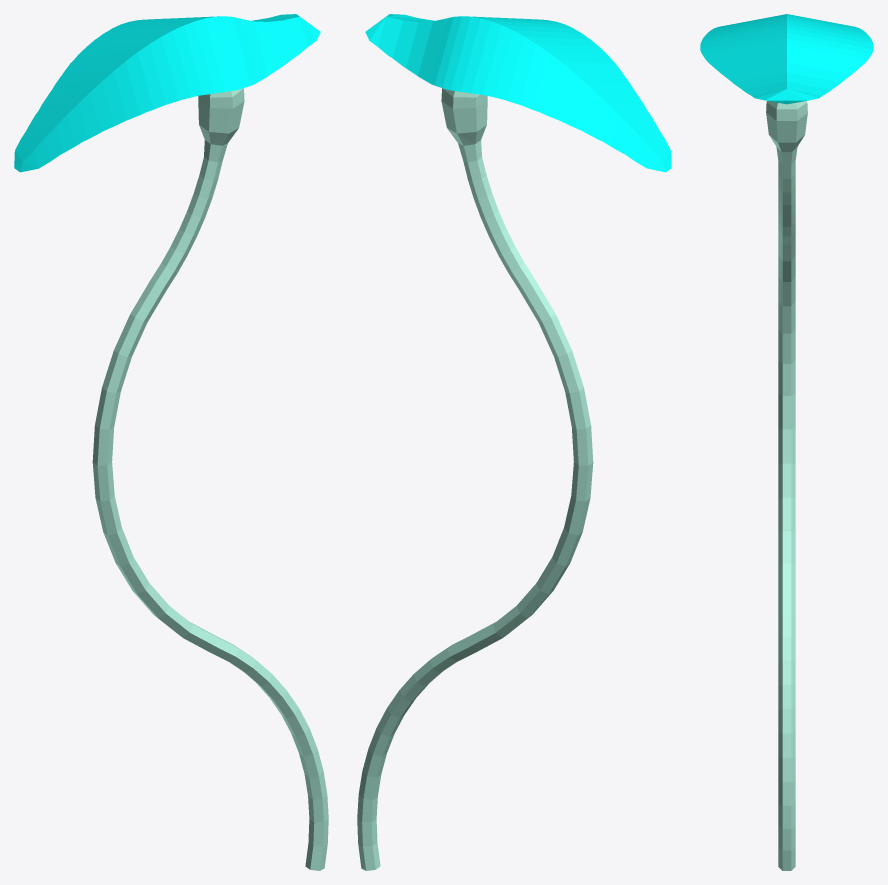
File: Frond.fbx
The picture shows the model from 3 angles, left to right: view 1: azimuth 30°, elevation 25°; view 2: azimuth 150°, elevation 25°; view 3: azimuth 270°, elevation 25°; orthographic projection. The views are drawn at different scales.
Visible parts, largest first — view 1: Vegetation_Verdant_Plant_Frond_Bioluminescent_01, Vegetation_Verdant_Plant_Frond_Bioluminescent_01.001; view 2: Vegetation_Verdant_Plant_Frond_Bioluminescent_01, Vegetation_Verdant_Plant_Frond_Bioluminescent_01.001; view 3: Vegetation_Verdant_Plant_Frond_Bioluminescent_01.001, Vegetation_Verdant_Plant_Frond_Bioluminescent_01.
Boxes of the visible parts, box(x1,y1,x2,y2) form: Vegetation_Verdant_Plant_Frond_Bioluminescent_01: box(14, 14, 320, 172); Vegetation_Verdant_Plant_Frond_Bioluminescent_01.001: box(92, 88, 328, 870); Vegetation_Verdant_Plant_Frond_Bioluminescent_01: box(365, 14, 671, 172); Vegetation_Verdant_Plant_Frond_Bioluminescent_01.001: box(357, 88, 593, 870); Vegetation_Verdant_Plant_Frond_Bioluminescent_01.001: box(766, 101, 807, 870); Vegetation_Verdant_Plant_Frond_Bioluminescent_01: box(700, 14, 873, 104).
Size of the model in its own units: 59.87 by 162 by 32.26.
